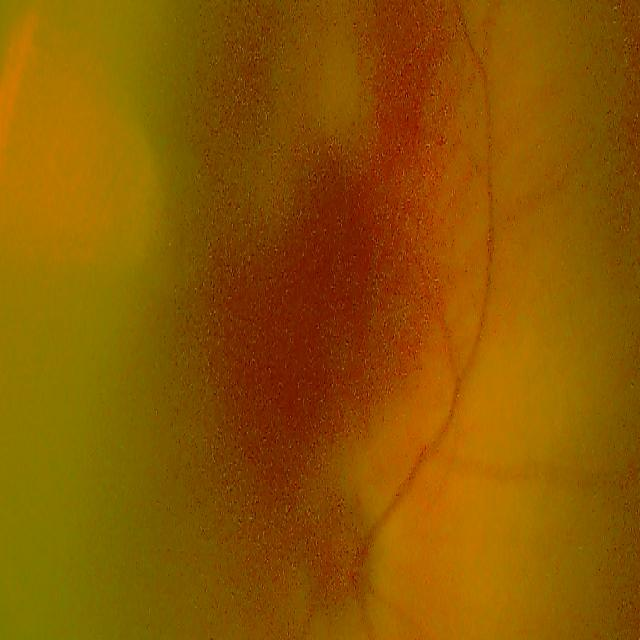optic-nerve: (285, 476, 391, 640)
